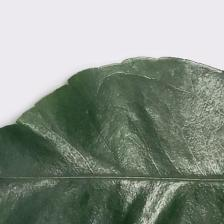healthy: (7, 65, 224, 224)
